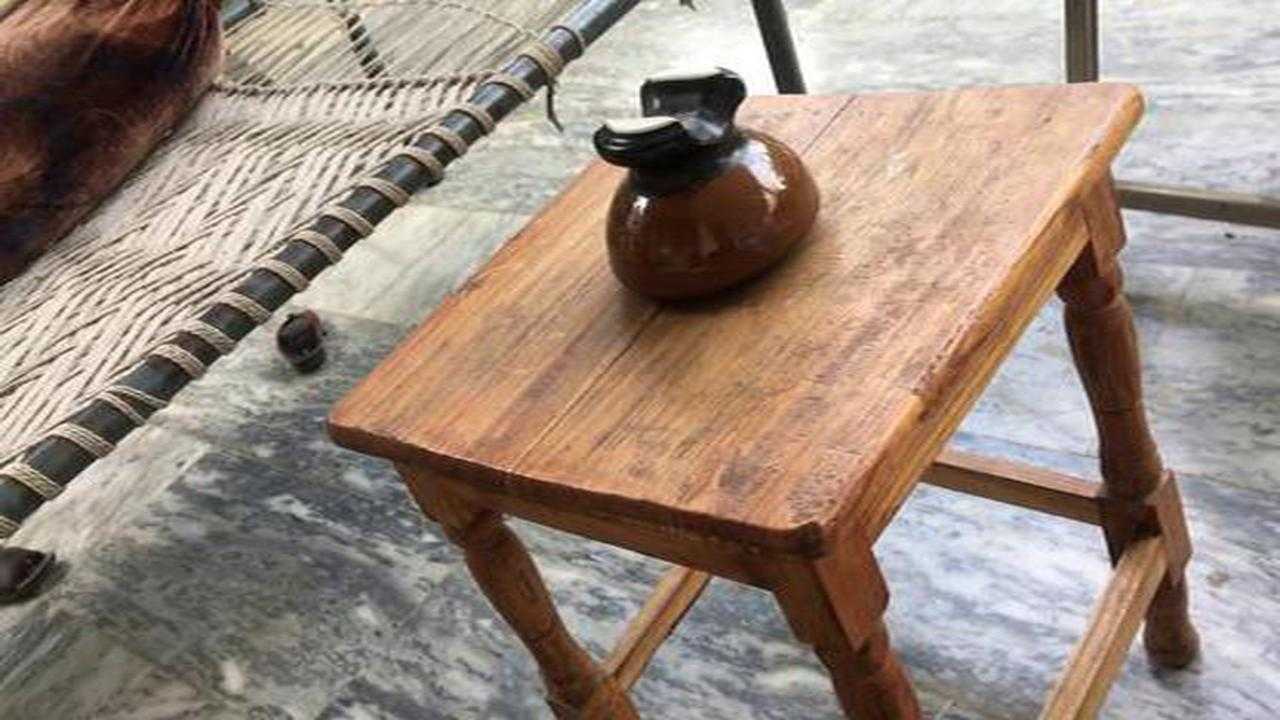insulator_pin: (561, 51, 841, 326)
